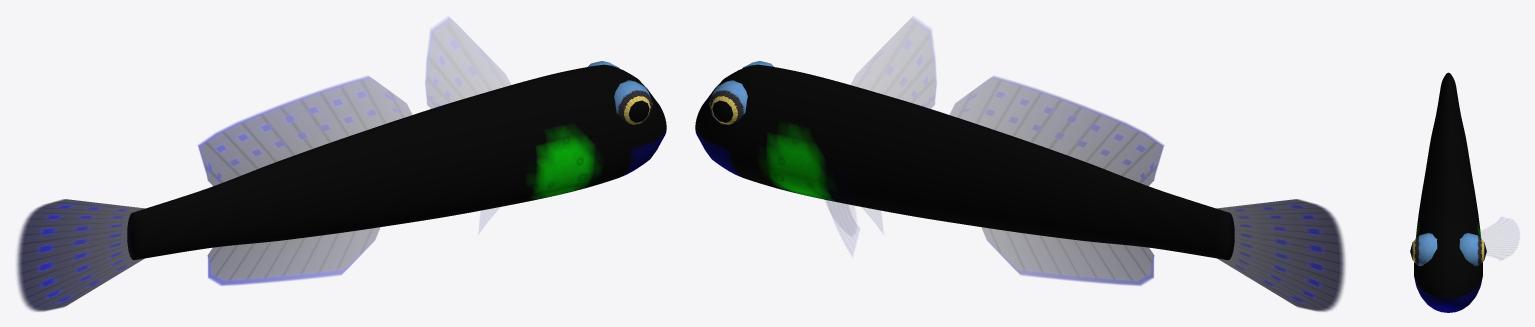
Rendered from watchman_goby.glb.
3 renders of one model, left to right at view 1: azimuth 30°, elevation 25°; view 2: azimuth 150°, elevation 25°; view 3: azimuth 270°, elevation 25°, orthographic. The views are drawn at different scales.
Visible parts, largest first — view 1: Body, FinDorsal2, FinCaudal, FinAnal, FinDorsal, EyeR; view 2: Body, FinDorsal2, FinCaudal, FinAnal, FinDorsal, EyeL; view 3: Body, EyeL, EyeR.
Part boxes in pixels (x1,y1,x2,y2): Body: [127, 64, 666, 260]; FinDorsal2: [198, 76, 412, 186]; FinCaudal: [16, 199, 145, 311]; FinAnal: [207, 227, 379, 285]; FinDorsal: [425, 17, 511, 109]; EyeR: [614, 80, 652, 125]; Body: [695, 64, 1234, 260]; FinDorsal2: [949, 76, 1163, 186]; FinCaudal: [1216, 199, 1345, 311]; FinAnal: [982, 227, 1154, 285]; FinDorsal: [850, 17, 936, 109]; EyeL: [709, 80, 747, 125]; Body: [1414, 72, 1482, 312]; EyeL: [1459, 233, 1486, 266]; EyeR: [1410, 233, 1437, 266].
Size of the model in its own units: 1 by 0.3614 by 0.2542.
Materials: 4 (3 with a texture image).
